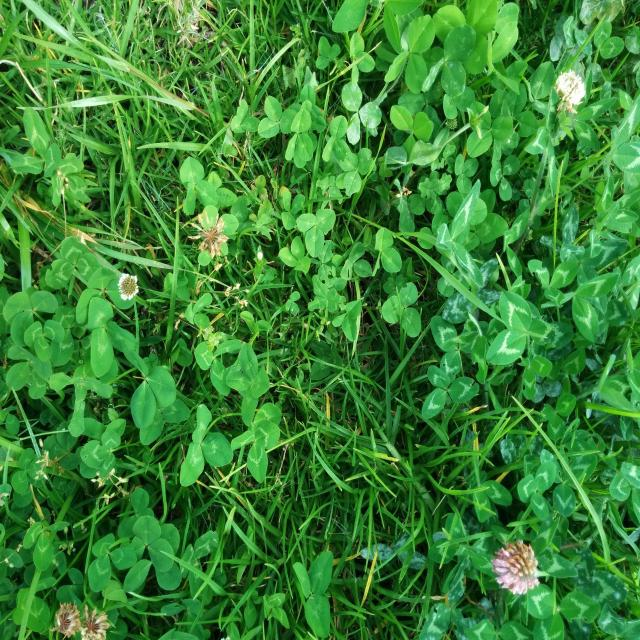Four Leaf Clover: (225, 343, 270, 426)
